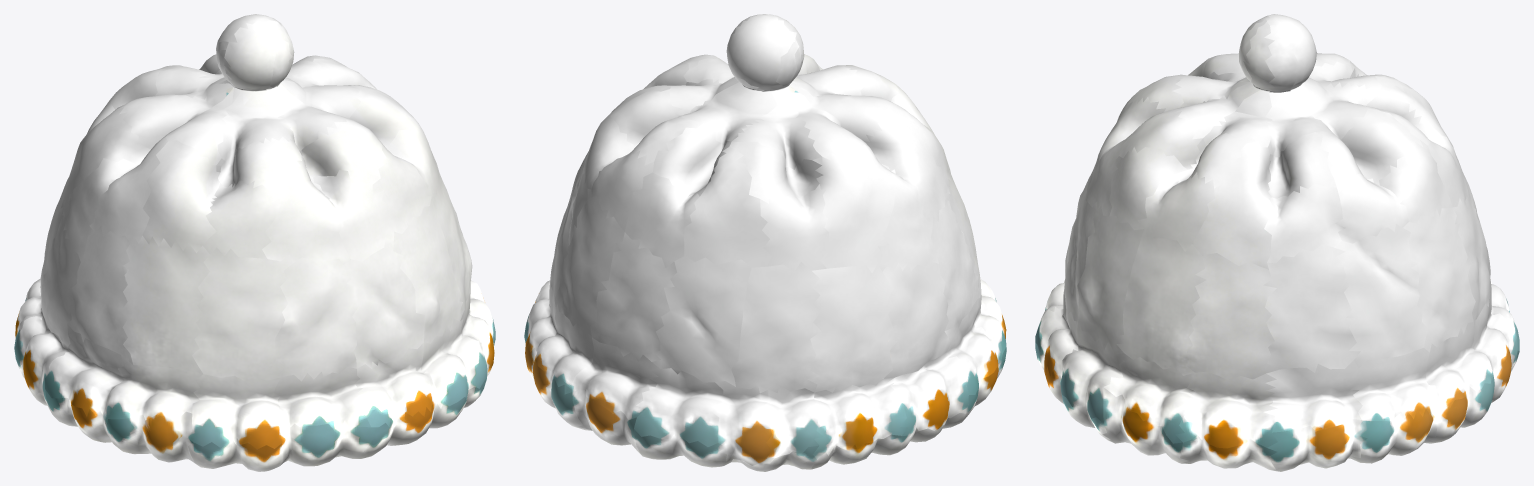
Rendered from hub_kalpak_modern.glb.
3 views of the same model, side by side, from view 1: azimuth 30°, elevation 25°; view 2: azimuth 150°, elevation 25°; view 3: azimuth 270°, elevation 25° (orthographic).
Bounding box in the file's own units: 1.87 × 1.62 × 1.9.
1 material, 1 textured.
